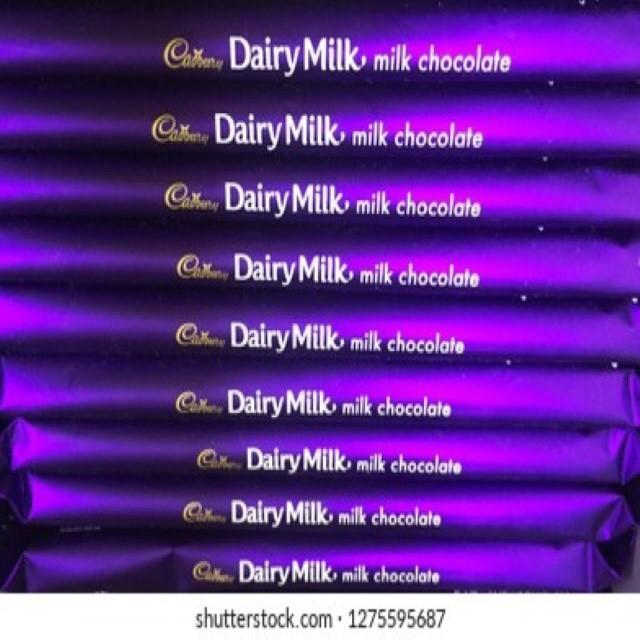cadbury_chocolate: (0, 7, 640, 85), (1, 158, 640, 223), (0, 428, 635, 488), (0, 370, 633, 425), (0, 304, 625, 358), (17, 94, 628, 148), (0, 493, 633, 544), (0, 544, 636, 591), (0, 239, 631, 286)
